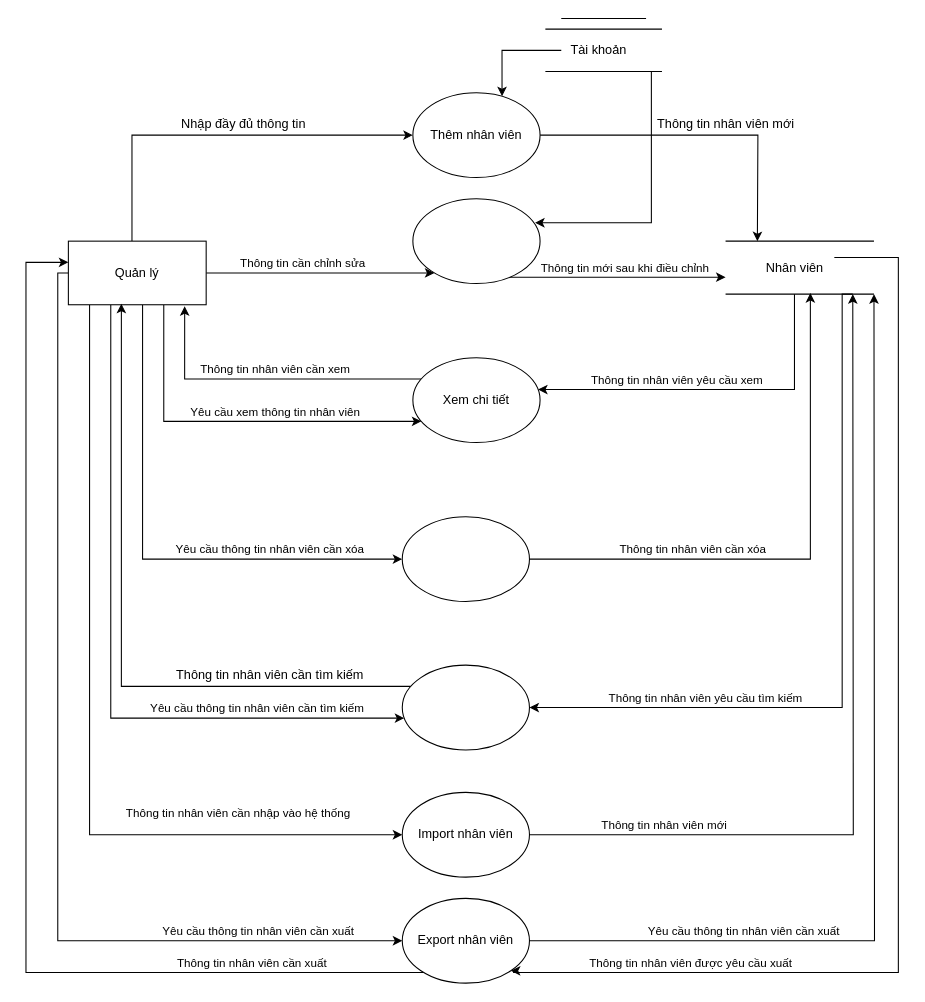
This 925x1002 diagram has some shape labels left out. The box of each missing label's shape, as (x1, y1, x2, y2) in pixels:
Sửa nhân viên: (412, 198, 540, 284)
Tìm kiếm nhân viên: (401, 664, 529, 750)
Xóa nhân viên: (401, 516, 529, 602)
